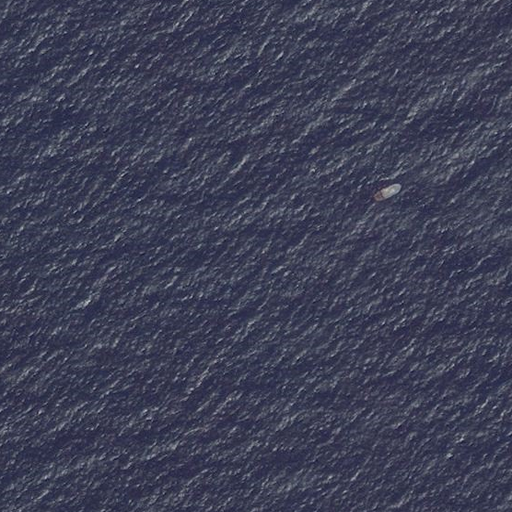ship: (370, 181, 403, 202)
